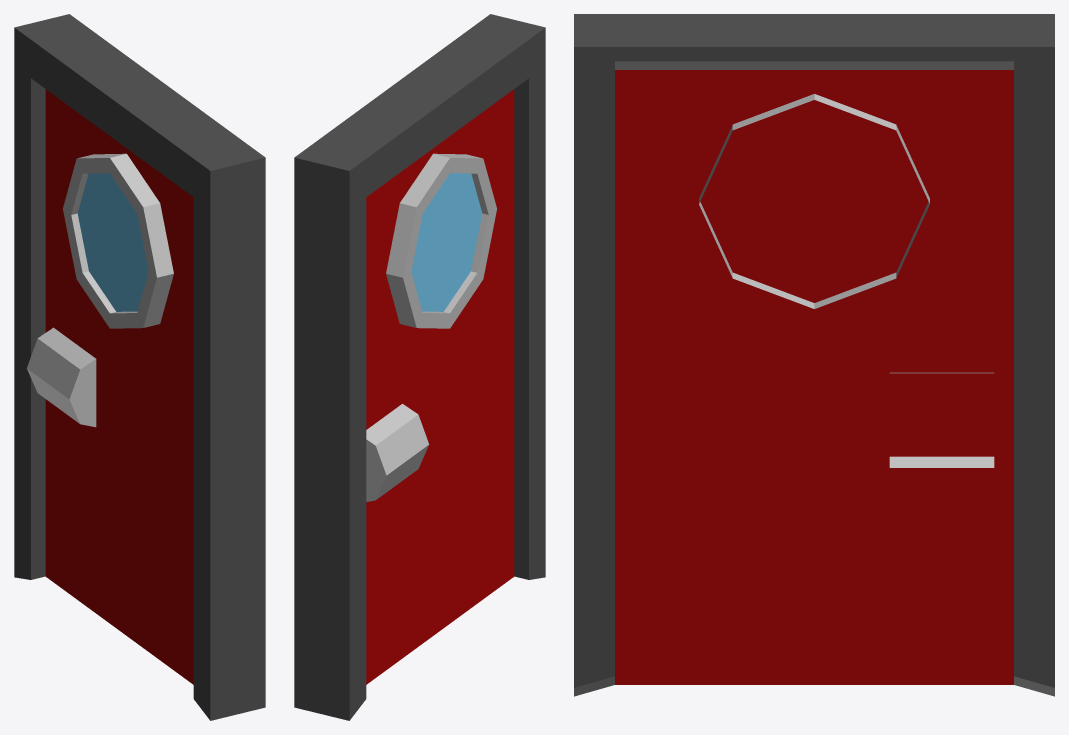
The model's file is Doors.fbx.
3 views of the same model, side by side, from view 1: azimuth 30°, elevation 25°; view 2: azimuth 150°, elevation 25°; view 3: azimuth 270°, elevation 25° (orthographic). The views are drawn at different scales.
Parts seen in each view (by area): view 1: Doors; view 2: Doors; view 3: Doors.
Part boxes in pixels (left/top/right/bottom): Doors: left=14, top=14, right=265, bottom=720; Doors: left=294, top=14, right=545, bottom=720; Doors: left=574, top=14, right=1054, bottom=696.
Size of the model in its own units: 90.59 by 644 by 416.
